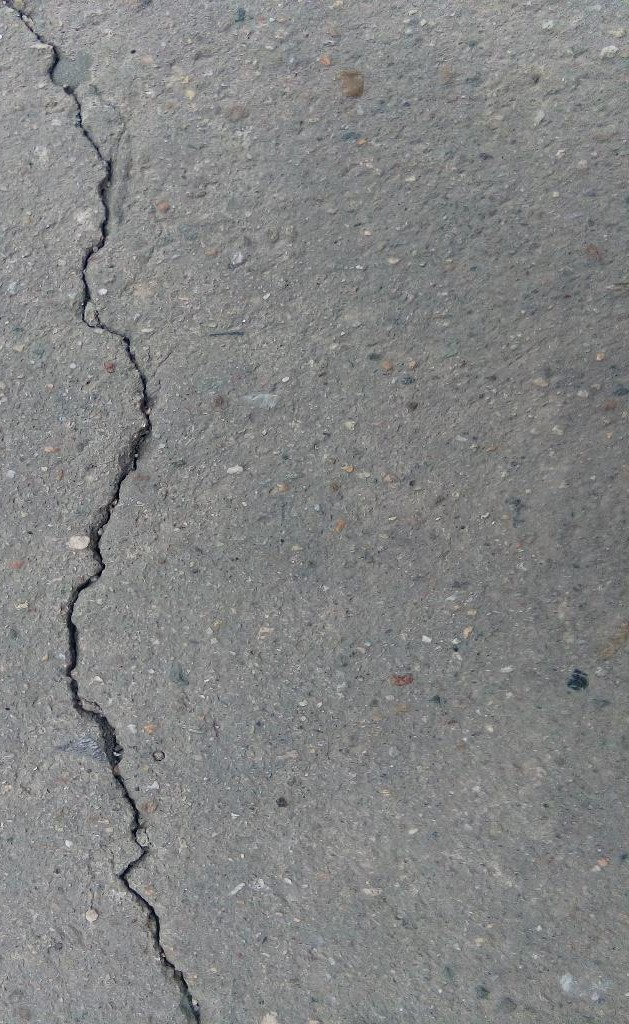Crack: (1, 1, 203, 1024)
